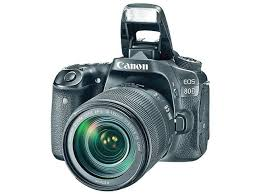camera: (53, 7, 208, 189)
